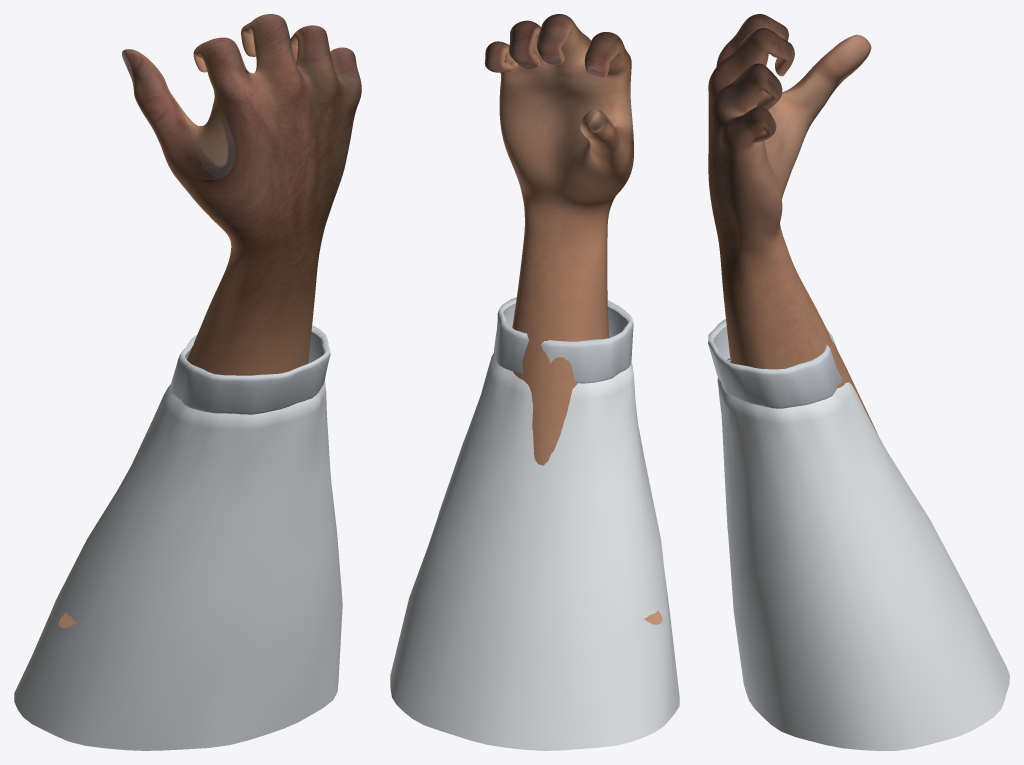
The model's file is fps-right-realistic.glb.
The picture shows the model from 3 angles, left to right: view 1: azimuth 30°, elevation 25°; view 2: azimuth 150°, elevation 25°; view 3: azimuth 270°, elevation 25°; orthographic projection. The views are drawn at different scales.
Visible parts, largest first — view 1: Sleeve, RightHand_Skin, Cuff; view 2: Sleeve, RightHand_Skin, Cuff; view 3: Sleeve, RightHand_Skin, Cuff.
Part boxes in pixels (x1,y1,x2,y2): Sleeve: (14,363,342,750); RightHand_Skin: (58,14,361,627); Cuff: (170,325,330,414); Sleeve: (390,353,679,750); RightHand_Skin: (484,14,662,624); Cuff: (494,297,633,383); Sleeve: (717,358,1009,750); RightHand_Skin: (708,14,878,435); Cuff: (708,319,842,408).
Size of the model in its own units: 0.1601 by 0.3708 by 0.152.
Materials: 3 (1 with a texture image).
